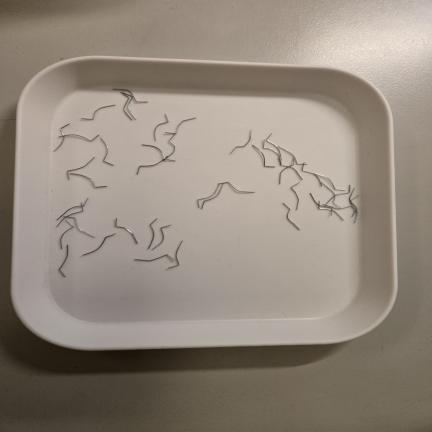probe: (82, 233, 115, 256), (115, 218, 138, 244), (70, 173, 107, 188), (81, 105, 115, 120), (230, 130, 251, 154), (152, 225, 171, 250), (283, 203, 300, 230), (168, 240, 183, 269), (154, 114, 169, 141), (101, 138, 113, 166), (58, 245, 68, 277), (147, 218, 157, 249), (134, 254, 174, 261)
